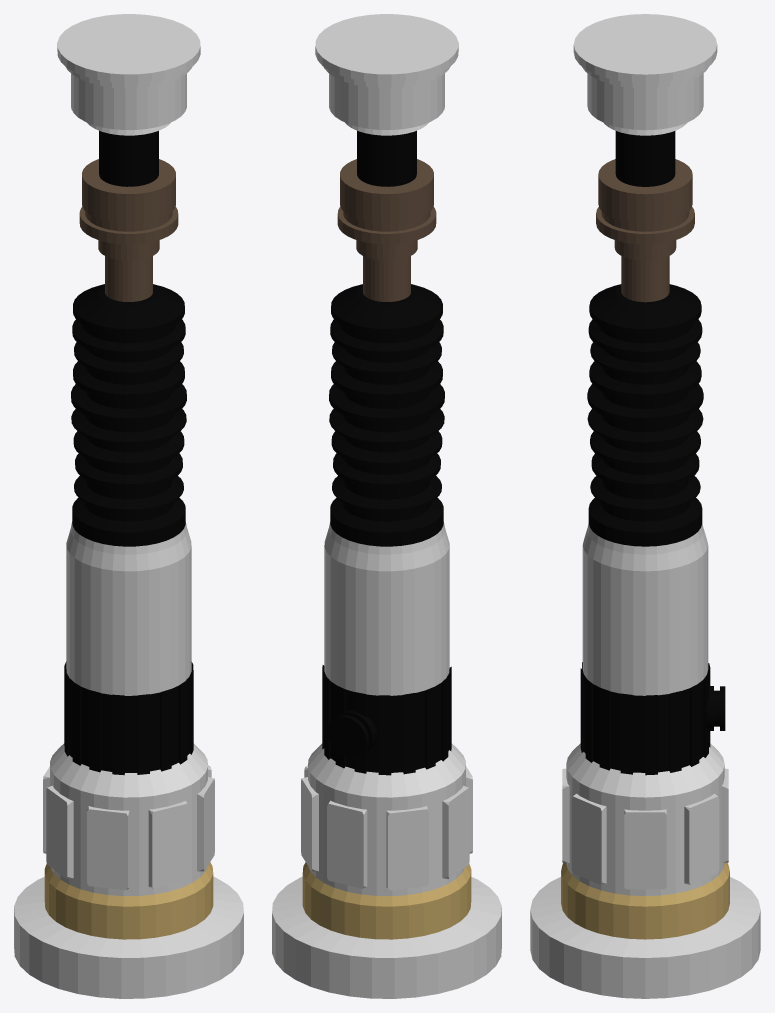
The model's file is Light_Saber.fbx.
3 renders of one model, left to right at view 1: azimuth 30°, elevation 25°; view 2: azimuth 150°, elevation 25°; view 3: azimuth 270°, elevation 25°, orthographic.
Parts seen in each view (by area): view 1: LightSaber; view 2: LightSaber; view 3: LightSaber.
Part boxes in pixels (<box>): LightSaber: <box>14,14,243,998</box>; LightSaber: <box>272,14,501,998</box>; LightSaber: <box>530,14,760,998</box>.
Bounding box in the file's own units: 367 × 1593 × 367.
